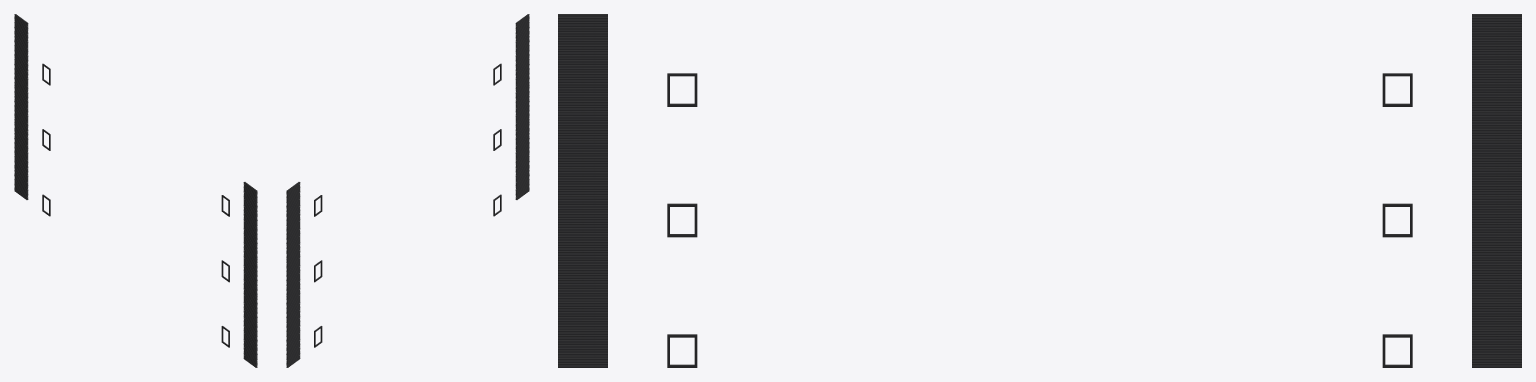
Rendered from parrillas laterales.fbx.
3 views of the same model, side by side, from view 1: azimuth 30°, elevation 25°; view 2: azimuth 150°, elevation 25°; view 3: azimuth 270°, elevation 25° (orthographic). The views are drawn at different scales.
Parts seen in each view (by area): view 1: Object283, Layer:3D HERR; view 2: Layer:3D HERR, Object283; view 3: Object283, Layer:3D HERR.
Part boxes in pixels (<box>): Object283: <box>221,182,257,367</box>; Layer:3D HERR: <box>14,14,50,216</box>; Layer:3D HERR: <box>286,182,322,367</box>; Object283: <box>493,14,529,216</box>; Object283: <box>558,14,697,367</box>; Layer:3D HERR: <box>1382,14,1521,367</box>.
Bounding box in the file's own units: 0.07 × 7.83 × 19.4.
1 material, 1 textured.
